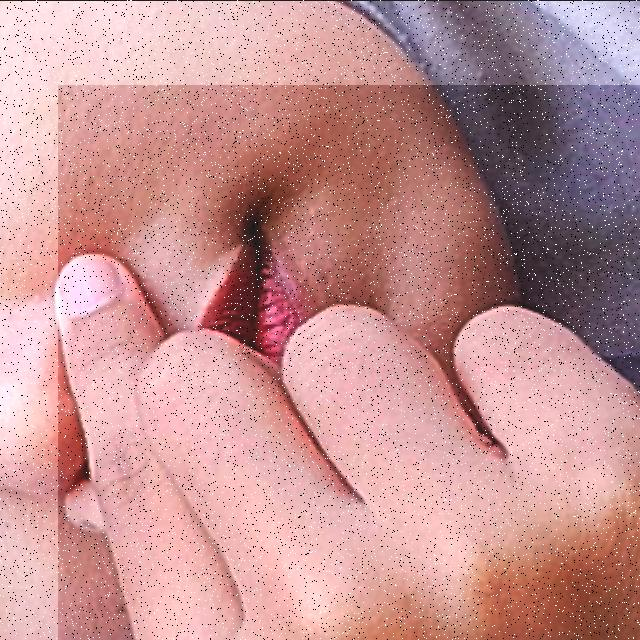bau: (58, 84, 640, 640)
